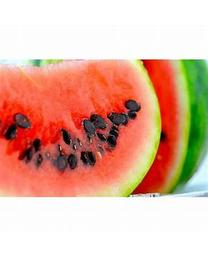watermelon: (1, 62, 207, 196)
